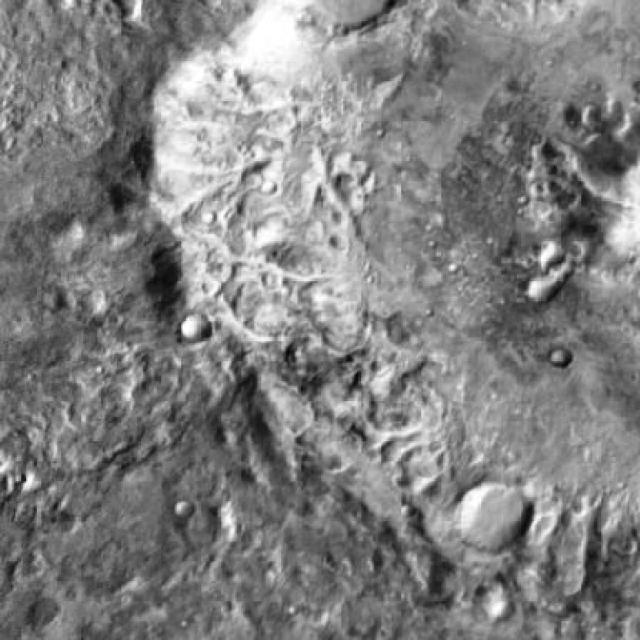crater: (149, 0, 640, 598), (442, 477, 522, 546), (180, 314, 209, 340), (173, 499, 195, 518), (552, 347, 571, 364)
